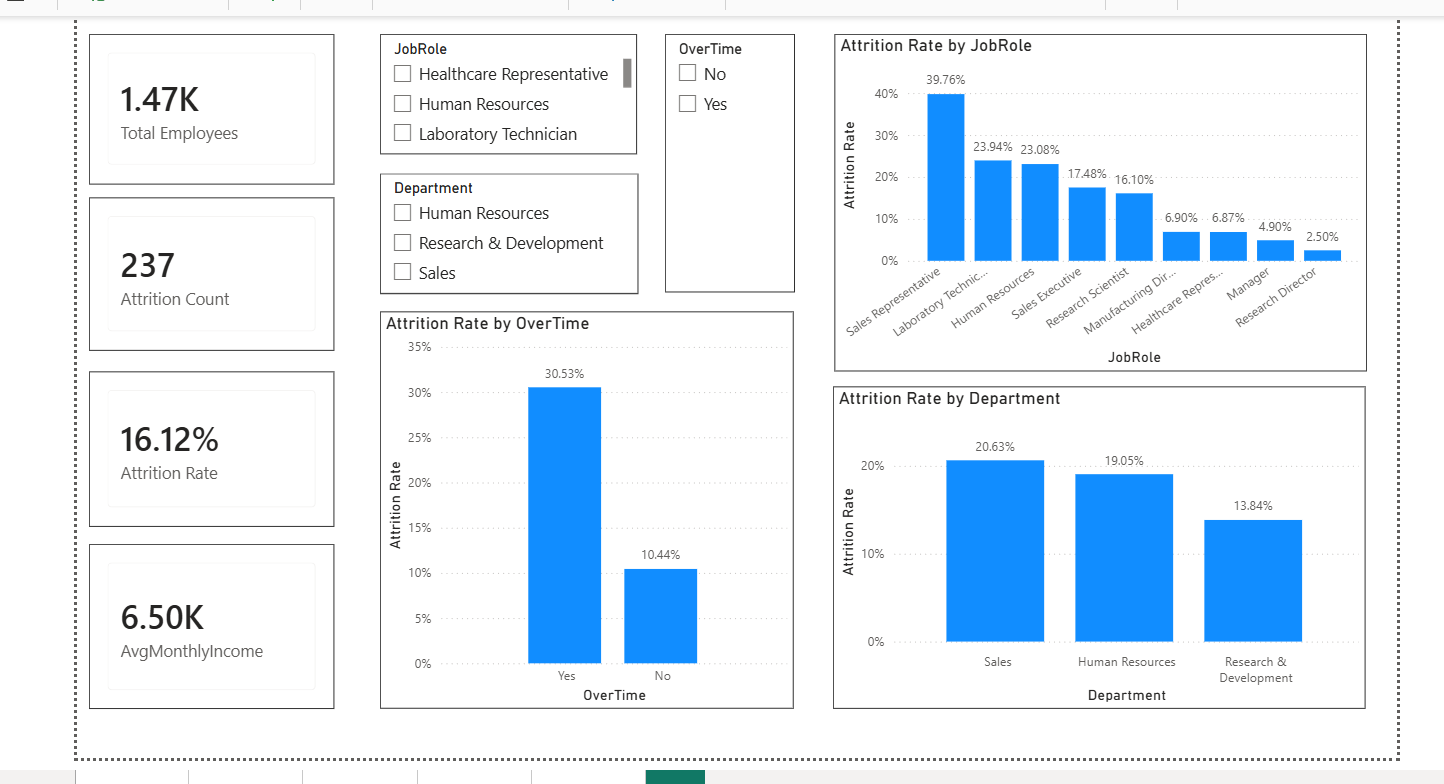

The page's visual inventory and layout, read from the dashboard file:
{"tool":"powerbi","page":{"name":"Page 1","canvas":[1280,720],"ordinal":0},"visuals":[{"type":"cardVisual","fields":{"Data":["employees.Total Employees"]},"box":[11.3,17.8,238,145.7],"z":0},{"type":"cardVisual","fields":{"Data":["employees.Attrition Count"]},"box":[11.3,176.5,238,149],"z":1000},{"type":"cardVisual","fields":{"Data":["employees.Attrition Rate"]},"box":[11.3,344.9,238,150.6],"z":2000},{"type":"cardVisual","fields":{"Data":["employees.AvgMonthlyIncome"]},"box":[11.3,511.7,238,160.3],"z":3000},{"type":"slicer","fields":{"Values":["employees.Department"]},"box":[294.7,152.2,251,116.6],"z":4000},{"type":"slicer","fields":{"Values":["employees.JobRole"]},"box":[294.7,17.8,249.4,116.6],"z":5000},{"type":"slicer","fields":{"Values":["employees.OverTime"]},"box":[570,17.8,126.3,251],"z":6000},{"type":"clusteredColumnChart","fields":{"Y":["employees.Attrition Rate"],"Category":["employees.Department"]},"box":[733.5,359.5,516.5,312.5],"z":7000},{"type":"clusteredColumnChart","fields":{"Y":["employees.Attrition Rate"],"Category":["employees.JobRole"]},"box":[735.1,17.8,516.5,327.1],"z":8000},{"type":"clusteredColumnChart","fields":{"Y":["employees.Attrition Rate"],"Category":["employees.OverTime"]},"box":[294.7,286.6,401.6,385.4],"z":9000}]}

Visuals, with their boxes on the page's 1280x720 design canvas (x1, y1, x2, y2). These are canvas units, not pixel positions in the 1444x784 screenshot, which may show the page scaled, cropped or inside an application window:
cardVisual - employees.Total Employees: [left=11, top=18, right=249, bottom=164]
cardVisual - employees.Attrition Count: [left=11, top=176, right=249, bottom=326]
cardVisual - employees.Attrition Rate: [left=11, top=345, right=249, bottom=496]
cardVisual - employees.AvgMonthlyIncome: [left=11, top=512, right=249, bottom=672]
slicer - employees.Department: [left=295, top=152, right=546, bottom=269]
slicer - employees.JobRole: [left=295, top=18, right=544, bottom=134]
slicer - employees.OverTime: [left=570, top=18, right=696, bottom=269]
clusteredColumnChart - employees.Attrition Rate x employees.Department: [left=734, top=360, right=1250, bottom=672]
clusteredColumnChart - employees.Attrition Rate x employees.JobRole: [left=735, top=18, right=1252, bottom=345]
clusteredColumnChart - employees.Attrition Rate x employees.OverTime: [left=295, top=287, right=696, bottom=672]
